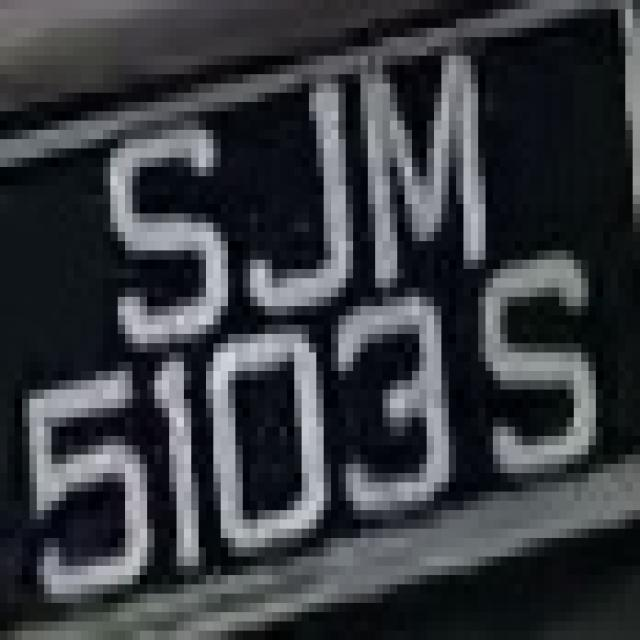0: (199, 306, 331, 566)
1: (132, 343, 228, 594)
3: (338, 260, 456, 538)
5: (15, 352, 162, 603)
J: (243, 84, 360, 316)
M: (353, 37, 515, 288)
S: (74, 102, 242, 352), (471, 232, 618, 473)
